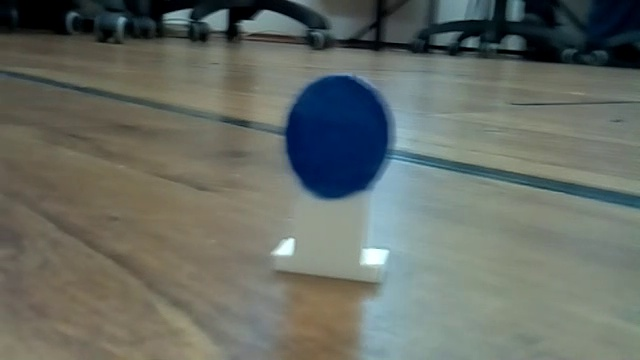circle: (255, 67, 413, 289)
